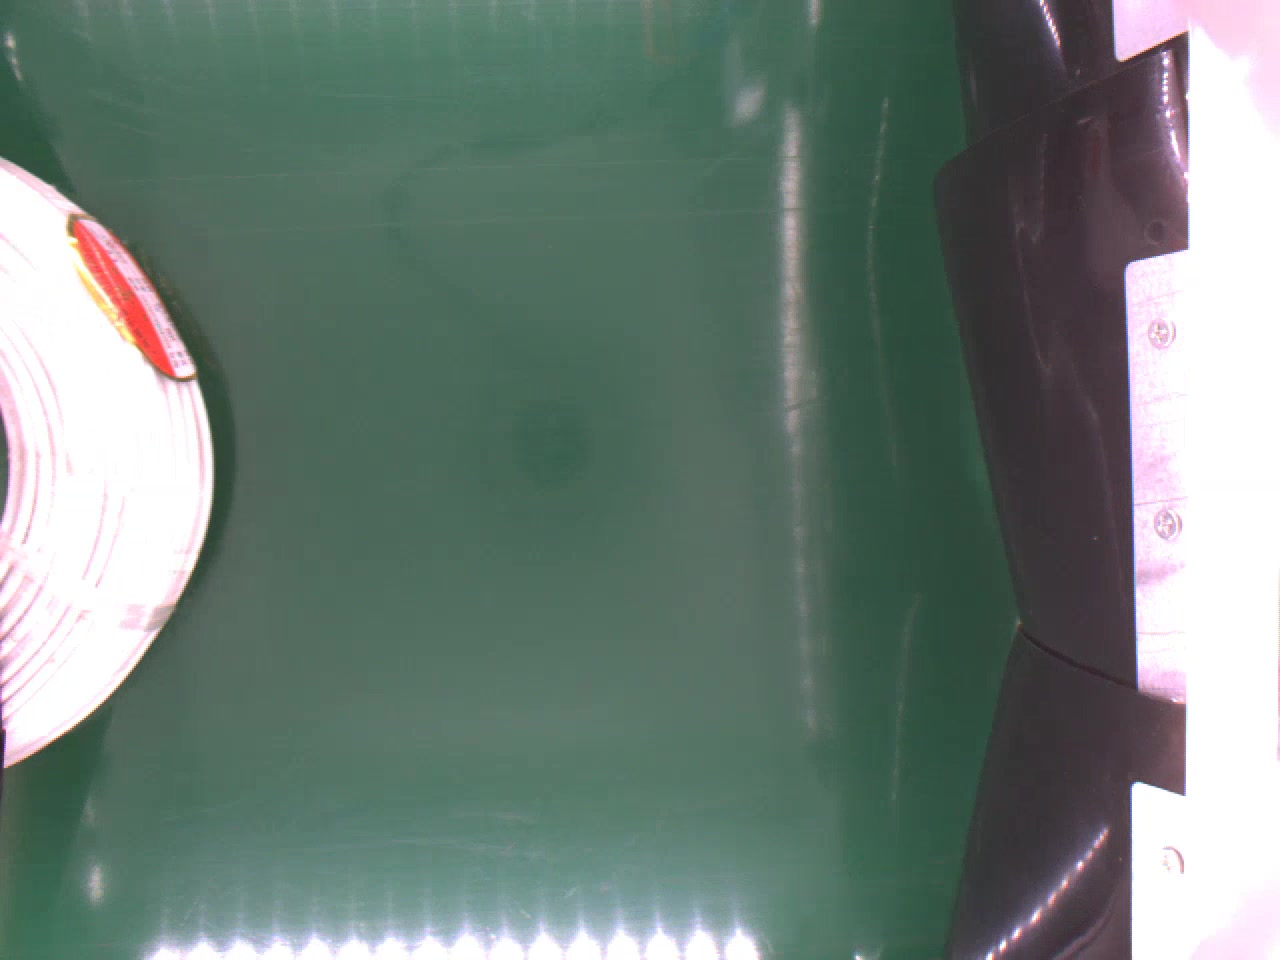white: (0, 151, 221, 776)
